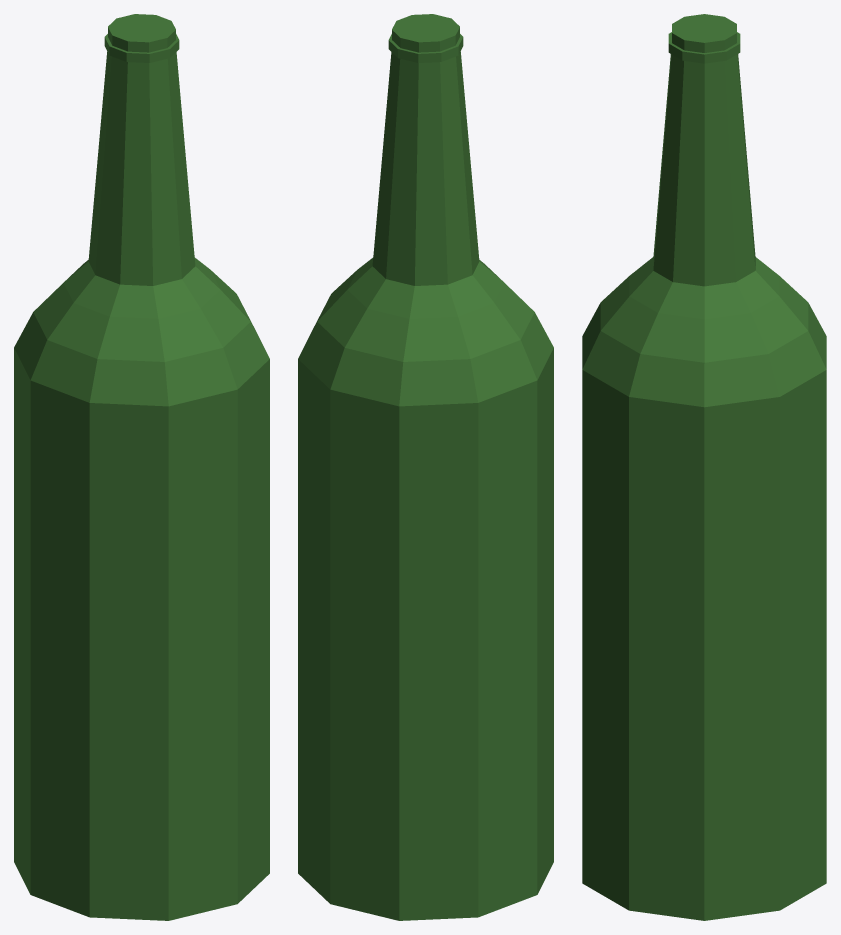
File: Bottle.fbx
3 views of the same model, side by side, from view 1: azimuth 30°, elevation 25°; view 2: azimuth 150°, elevation 25°; view 3: azimuth 270°, elevation 25° (orthographic).
Parts seen in each view (by area): view 1: Bottle; view 2: Bottle; view 3: Bottle.
Boxes of the visible parts, bbox=[...] form: Bottle: bbox=[14, 14, 269, 920]; Bottle: bbox=[298, 14, 553, 920]; Bottle: bbox=[582, 14, 826, 920].
Size of the model in its own units: 0.921 by 3.32 by 0.8759.
